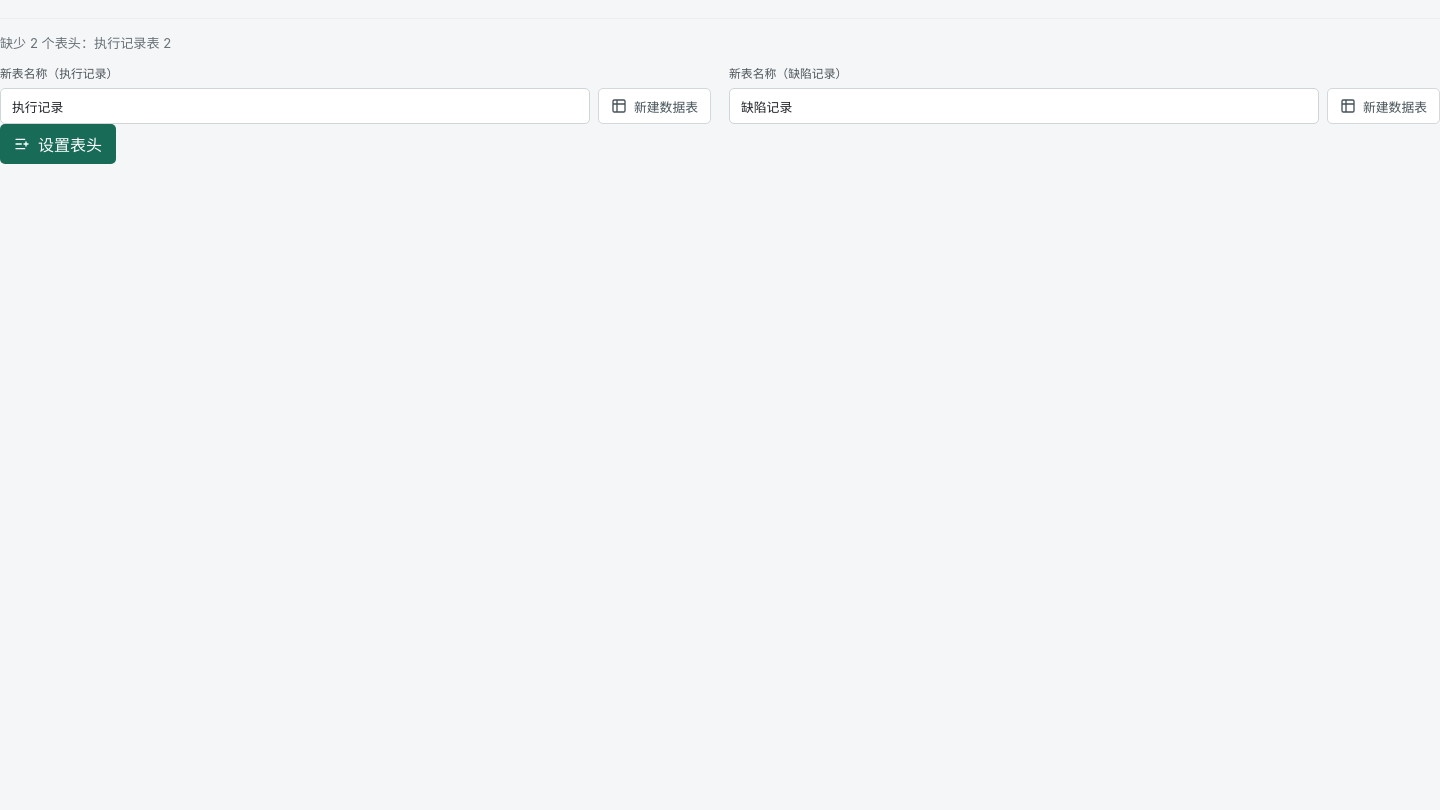
Test: reports a refused creation instead of claiming success
This screenshot has width=1440, height=810.
Expected: the text "缺少 2 个表头：执行记录表 2" is shown, 0,35 -> 171,51
Click the button "设置表头": (58, 144) 0,124 -> 116,164
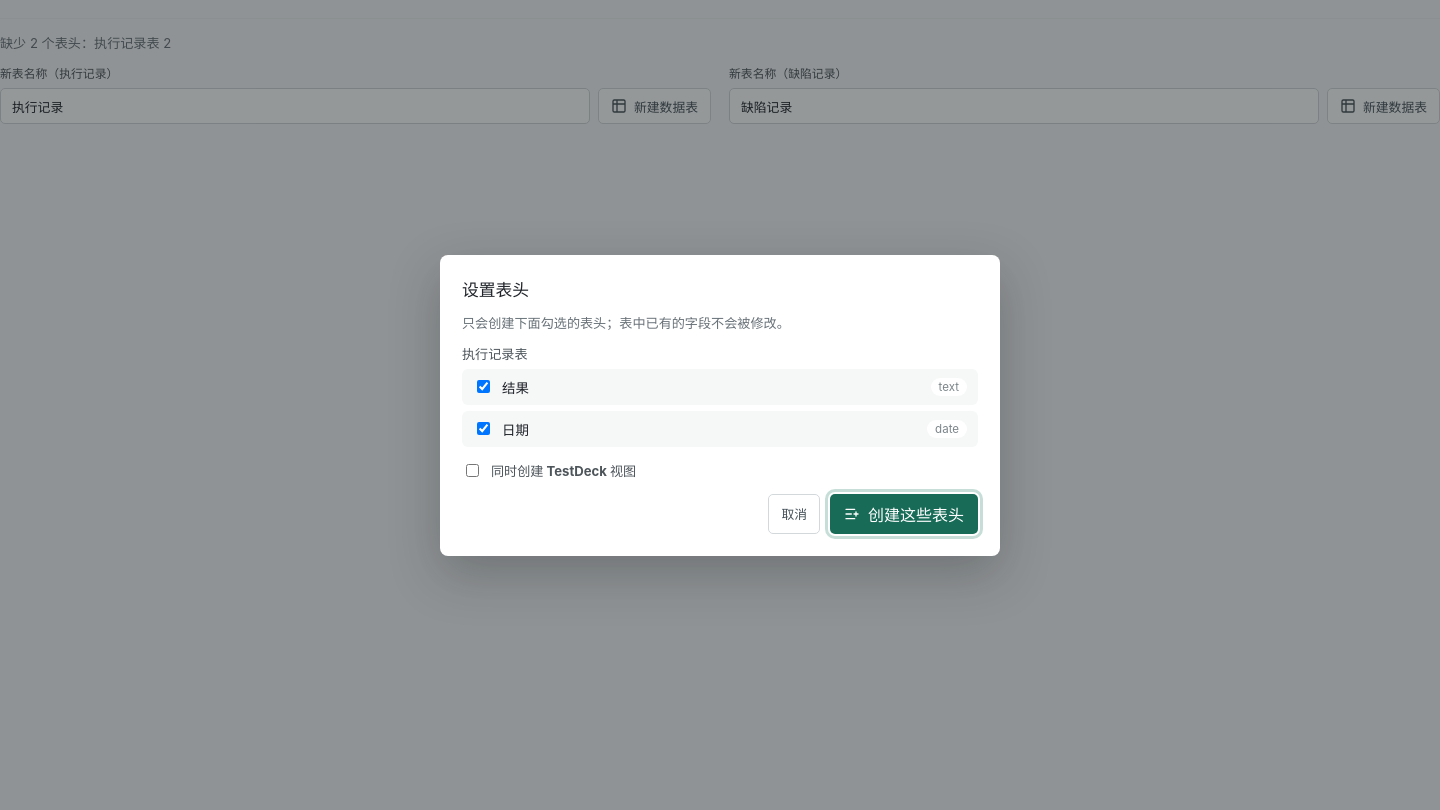
Click the button "创建这些表头": (904, 514) 830,494 -> 978,534
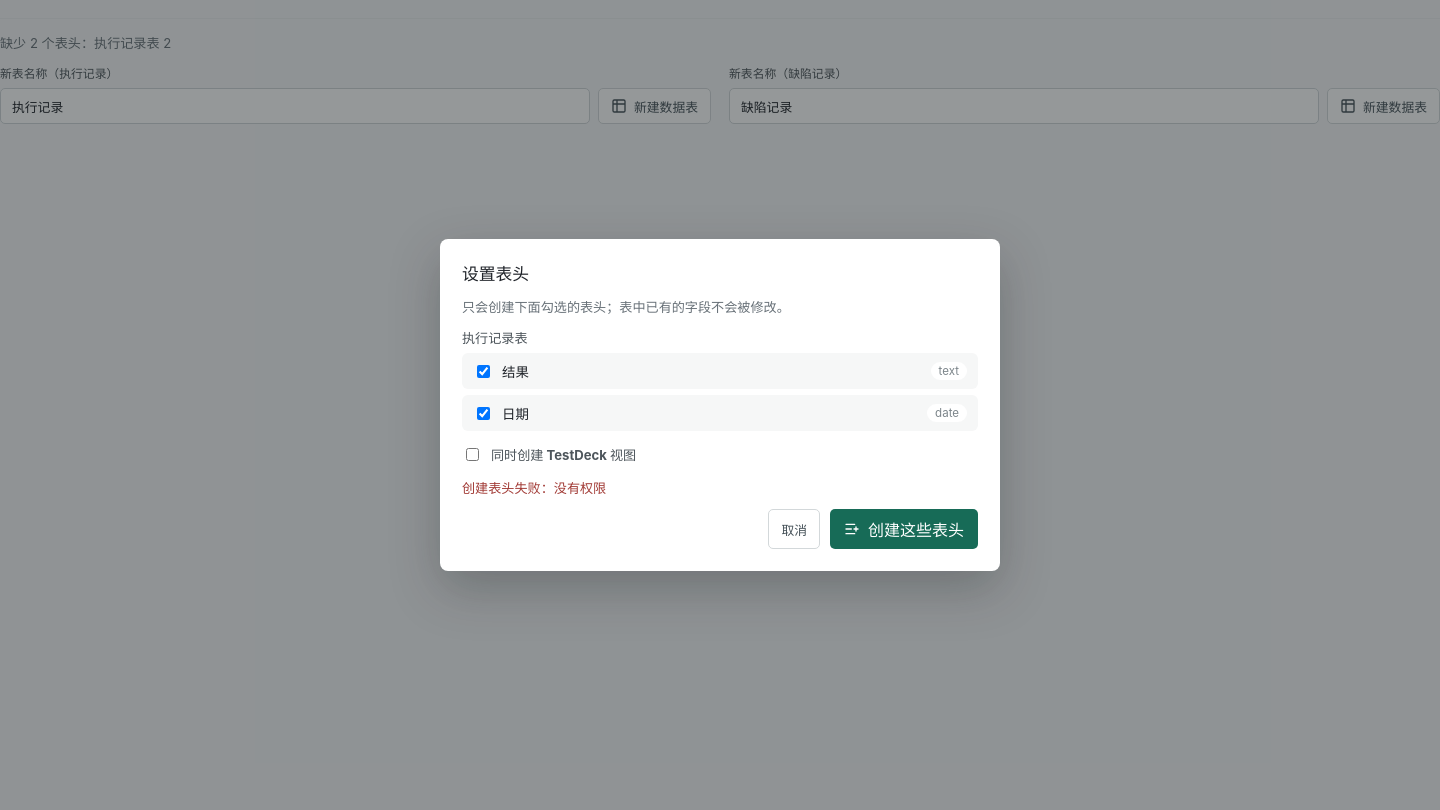
Expected: the dialog is shown, 440,239 -> 1000,571
Expected: the text "创建表头失败：没有权限" is shown, 462,480 -> 606,496
